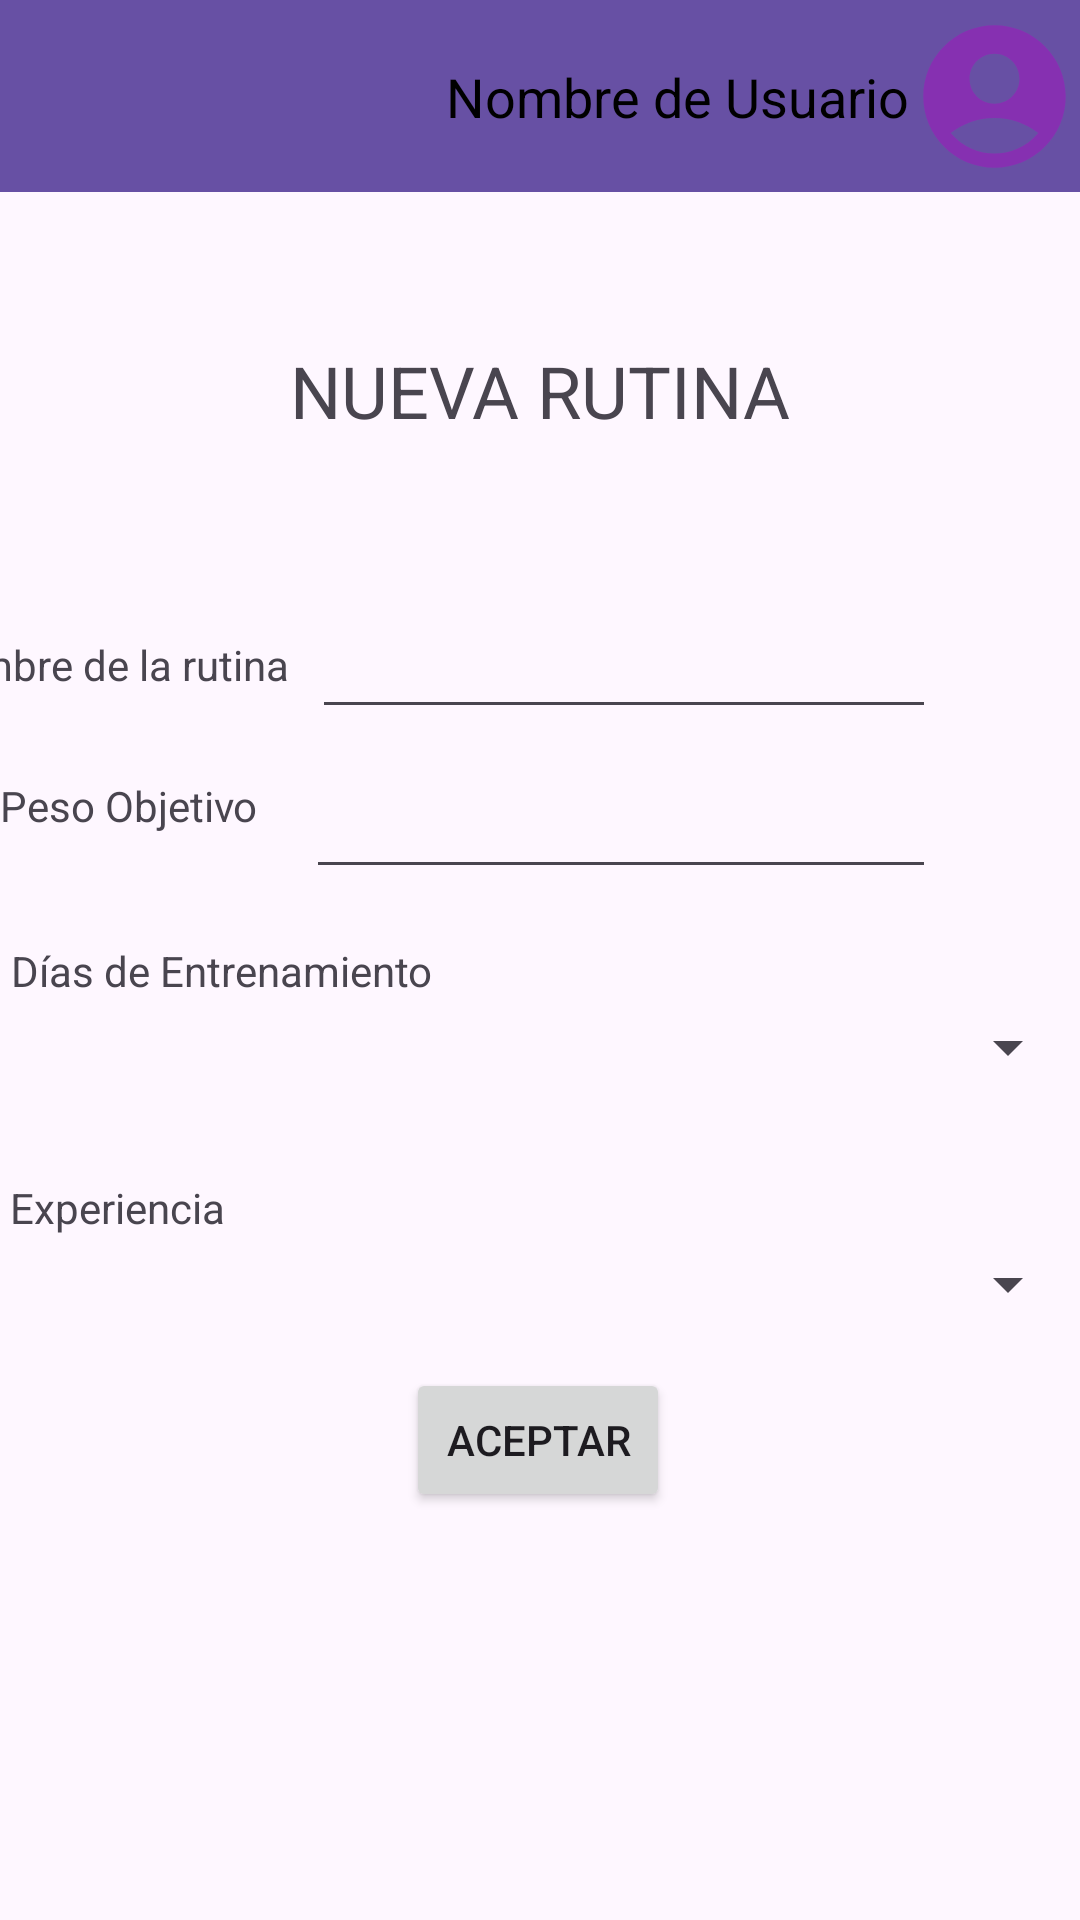

Icons on this 1080 x 1920 Android screen, each with its box as [left=x1, top=y1, right=x2, bottom=y2]:
perfil: [left=924, top=26, right=1065, bottom=167]
